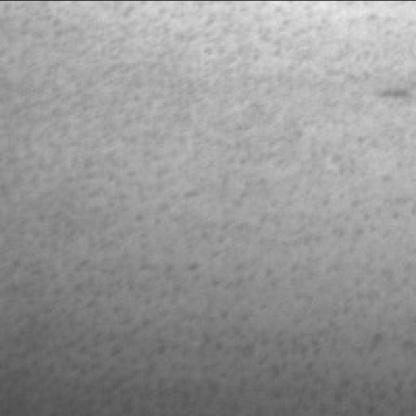pitted_surface: (2, 158, 414, 414)
